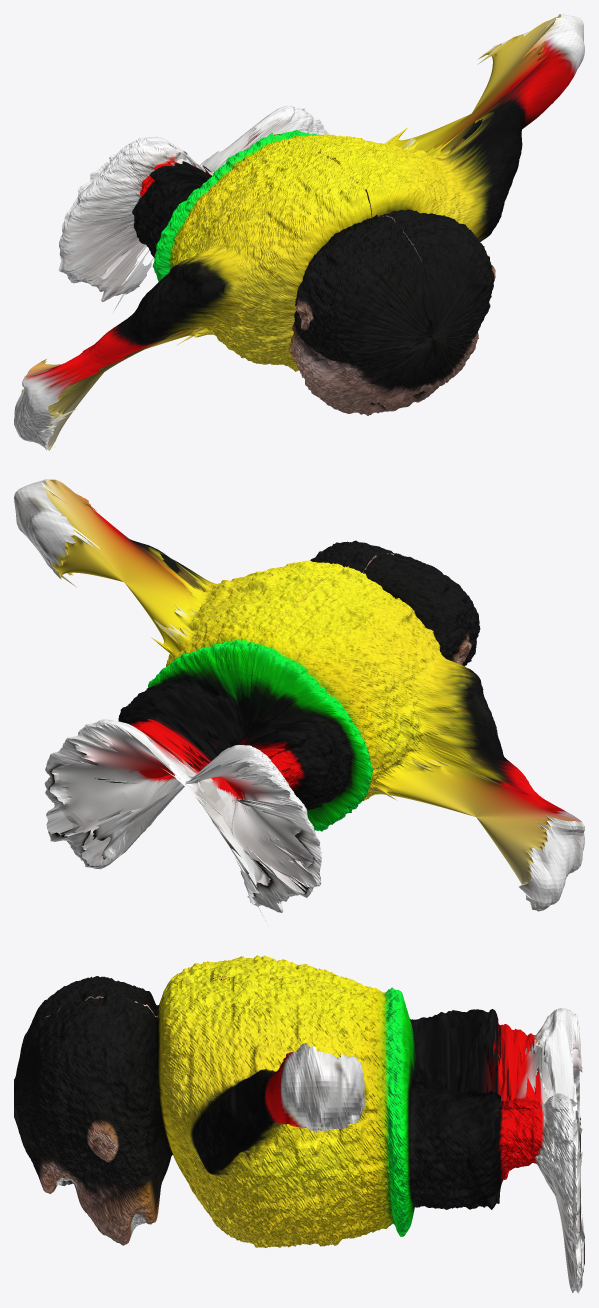
Rendered from mesh_inpaint.glb.
3 renders of one model, top to bottom at view 1: azimuth 30°, elevation 25°; view 2: azimuth 150°, elevation 25°; view 3: azimuth 270°, elevation 25°, orthographic. The views are drawn at different scales.
Visible parts, largest first — view 1: ipn, fill; view 2: ipn, fill; view 3: ipn, fill.
Part boxes in pixels (x1,y1,x2,y2): ipn: (14,14,584,448); fill: (25,14,561,450); ipn: (14,479,584,920); fill: (41,479,581,910); ipn: (14,955,584,1293); fill: (272,1018,584,1281).
Size of the model in its own units: 1.74 by 0.9084 by 1.26.
Materials: 2 (1 with a texture image).
